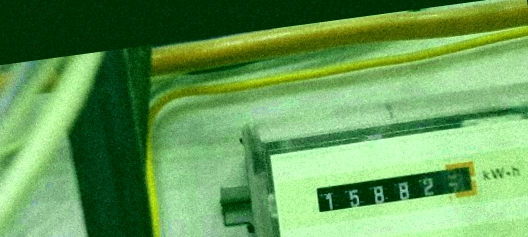1: (323, 191, 334, 210)
2: (421, 175, 435, 196)
5: (345, 187, 361, 208)
7: (445, 179, 459, 192)
8: (395, 178, 411, 201), (371, 183, 386, 204)
screen: (309, 158, 482, 220)
